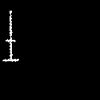double_crochet: (3, 11, 18, 61)
